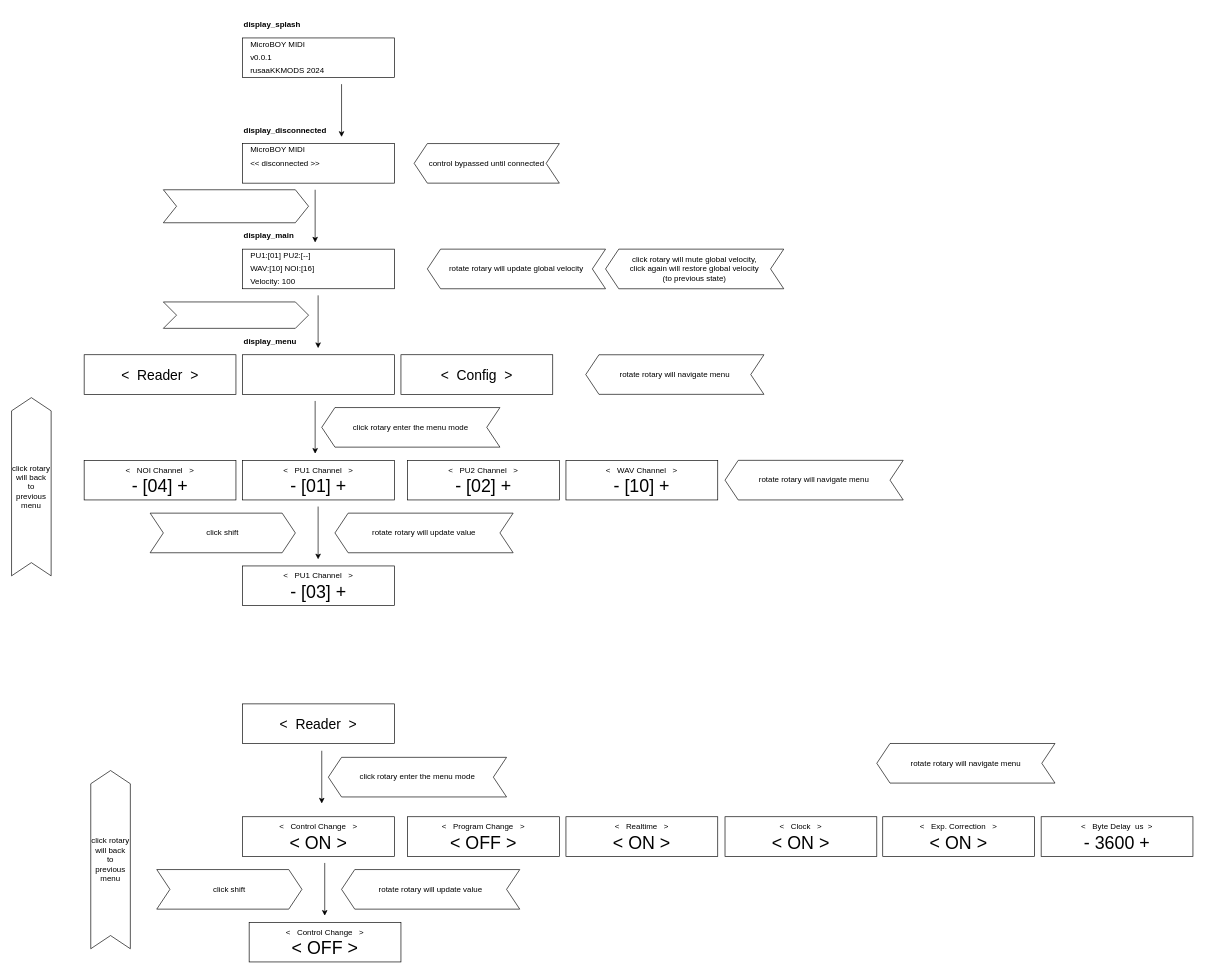
Some shapes in this 1205 by 974 pixel diagram are drawn without their labels. Here are the shapes that lost their labels. From the top down, the centre of each, then its label:
the point at 236,206: link connected or gameboy on
the point at 236,314: click shift click again back to main display
the point at 318,374: < Channels >
